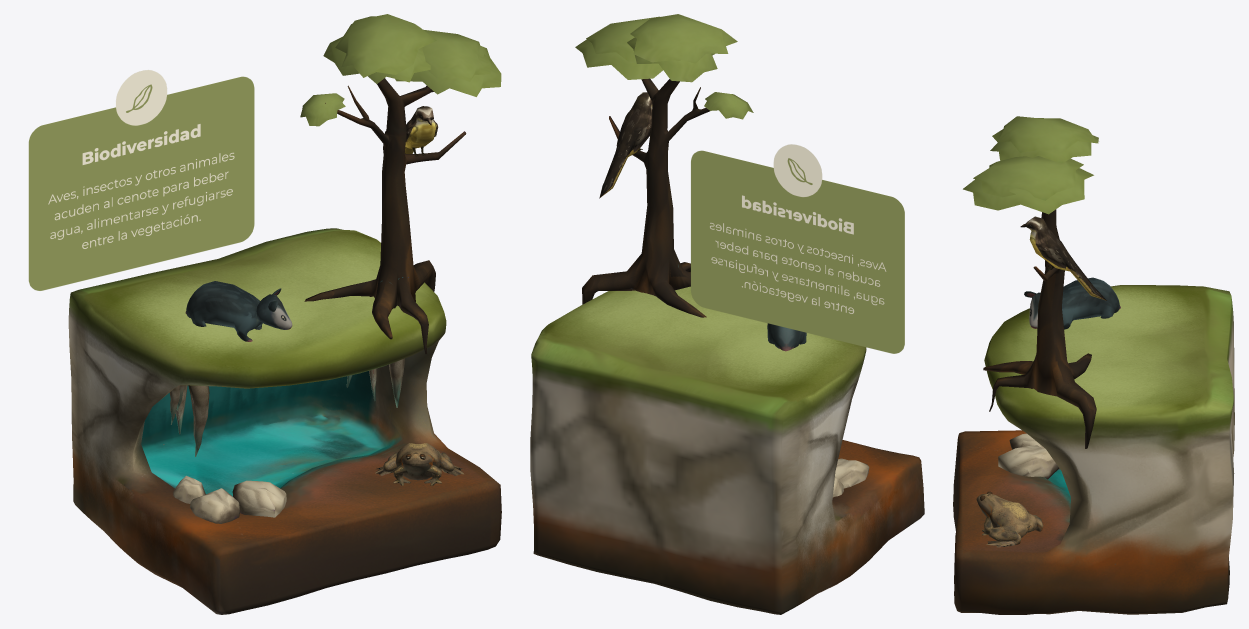
Rendered from biodiversidad-1.glb.
3 views of the same model, side by side, from view 1: azimuth 30°, elevation 25°; view 2: azimuth 150°, elevation 25°; view 3: azimuth 270°, elevation 25° (orthographic). The views are drawn at different scales.
Parts seen in each view (by area): view 1: Plane.077; view 2: Plane.077; view 3: Plane.077.
Boxes of the visible parts, x1,y1,x2,y2 form: Plane.077: (28,14,501,614); Plane.077: (530,14,924,614); Plane.077: (953,116,1234,614).
Bounding box in the file's own units: 0.5236 × 0.61 × 0.3331.
Materials: 2 (2 with a texture image).
